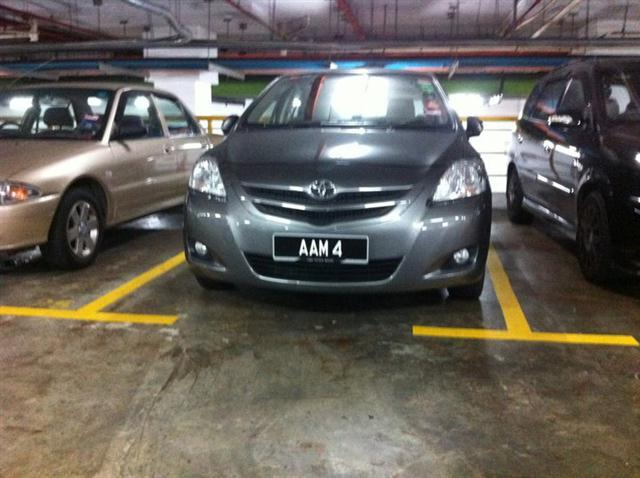License_Plate: (278, 236, 365, 265)
car: (180, 55, 496, 317)
